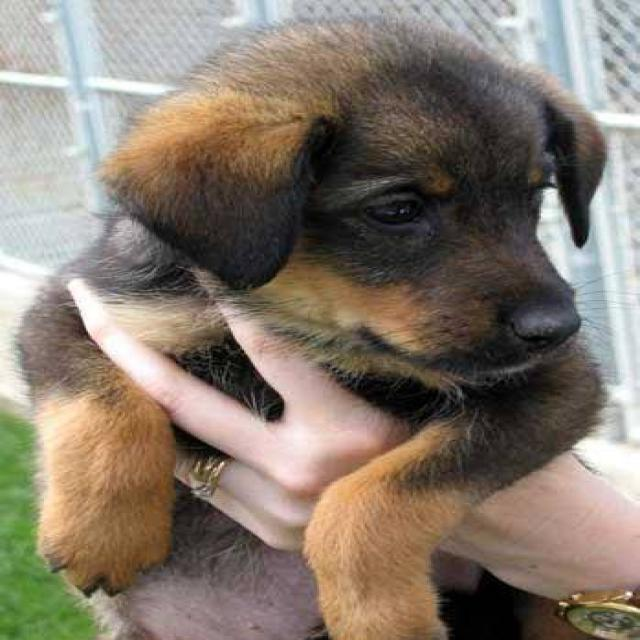dog: (2, 14, 620, 639)
